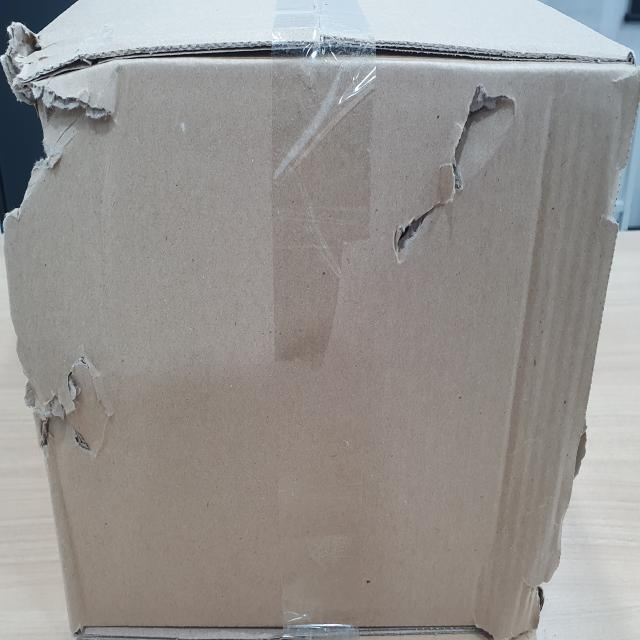hole: (391, 89, 517, 277), (1, 27, 89, 216), (26, 344, 136, 476)
